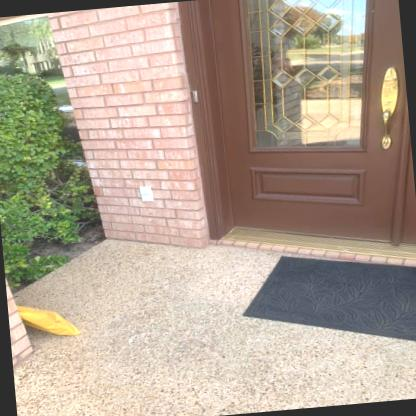envelope: (14, 306, 82, 337)
